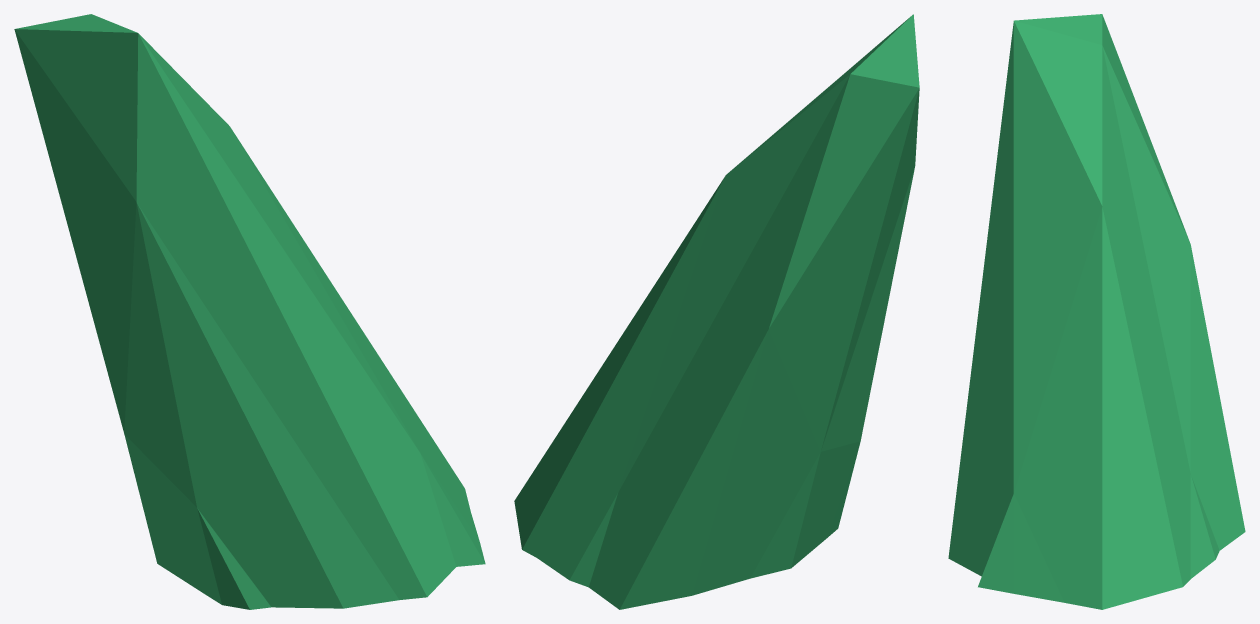
Rendered from Rock_Medium_Gem_Jade_Emerald_Spike_07.FBX.
3 renders of one model, left to right at view 1: azimuth 30°, elevation 25°; view 2: azimuth 150°, elevation 25°; view 3: azimuth 270°, elevation 25°, orthographic. The views are drawn at different scales.
Parts seen in each view (by area): view 1: Rock_Medium_Gem_Jade_Emerald_Spike_07; view 2: Rock_Medium_Gem_Jade_Emerald_Spike_07; view 3: Rock_Medium_Gem_Jade_Emerald_Spike_07.
Part boxes in pixels (box(x1,y1,x2,y2)): Rock_Medium_Gem_Jade_Emerald_Spike_07: box(14, 14, 485, 609); Rock_Medium_Gem_Jade_Emerald_Spike_07: box(514, 14, 919, 609); Rock_Medium_Gem_Jade_Emerald_Spike_07: box(948, 14, 1245, 609).
Size of the model in its own units: 3578 by 4496 by 2706.
